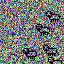sheep: (46, 11, 61, 23), (36, 24, 50, 35), (23, 48, 37, 59), (43, 45, 57, 56), (48, 58, 62, 64)
